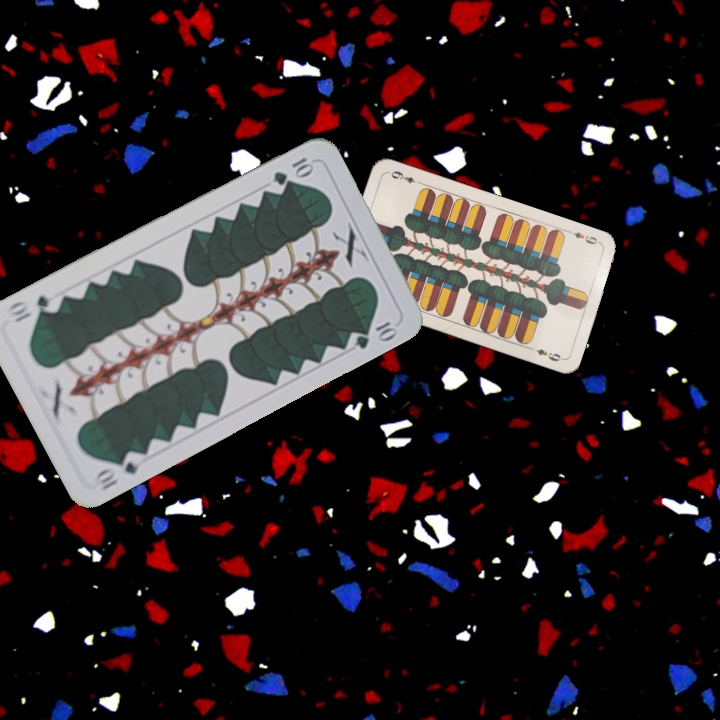E9: (564, 227, 604, 247)
G10: (91, 447, 147, 493), (269, 153, 316, 188)
